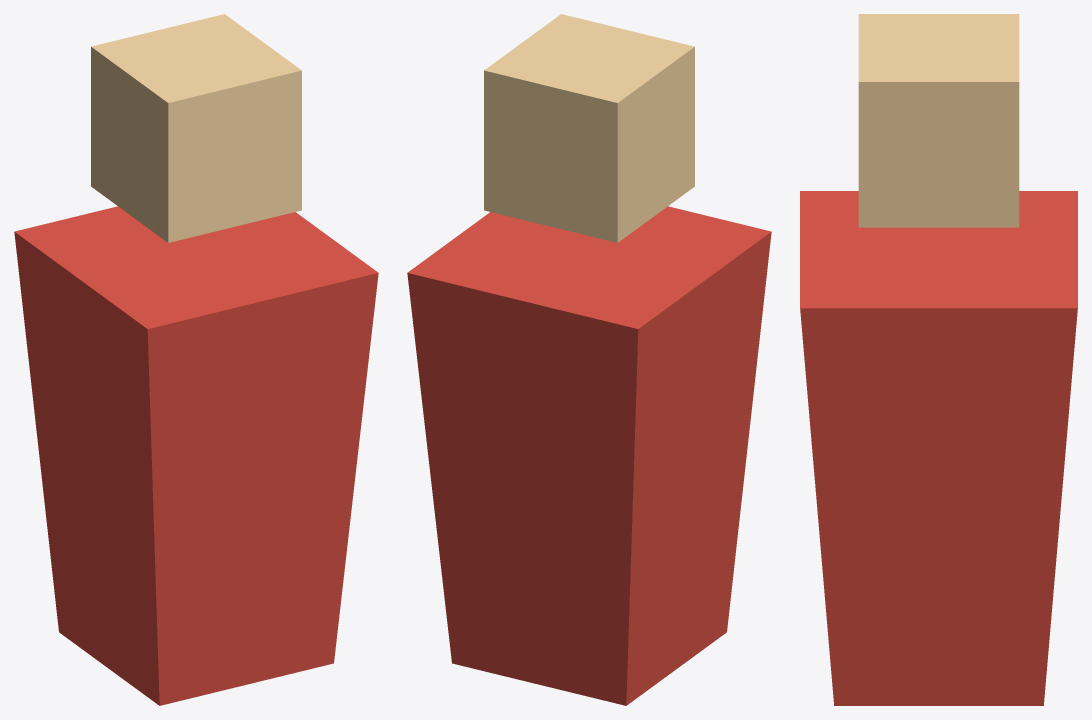
Rendered from Unit.fbx.
3 renders of one model, left to right at view 1: azimuth 30°, elevation 25°; view 2: azimuth 150°, elevation 25°; view 3: azimuth 270°, elevation 25°, orthographic. The views are drawn at different scales.
Visible parts, largest first — view 1: Unit.000; view 2: Unit.000; view 3: Unit.000.
Part boxes in pixels (x1=…): Unit.000: x1=14, y1=14, x2=378, y2=705; Unit.000: x1=407, y1=14, x2=771, y2=705; Unit.000: x1=800, y1=14, x2=1077, y2=705.
Bounding box in the file's own units: 31.39 × 76.53 × 31.39.
